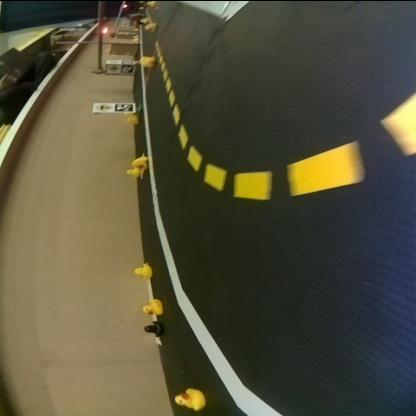Duckie: (174, 386, 206, 405), (142, 297, 162, 313), (144, 320, 163, 336), (134, 264, 150, 278), (139, 54, 155, 66), (132, 156, 146, 168), (126, 168, 138, 177), (126, 113, 138, 122), (144, 22, 156, 30), (140, 16, 148, 22), (134, 36, 140, 42)
Intersection sign: (93, 102, 110, 110), (107, 64, 119, 72)
QR code: (113, 102, 134, 110), (120, 64, 132, 72)
Traffic light: (100, 26, 108, 32)
